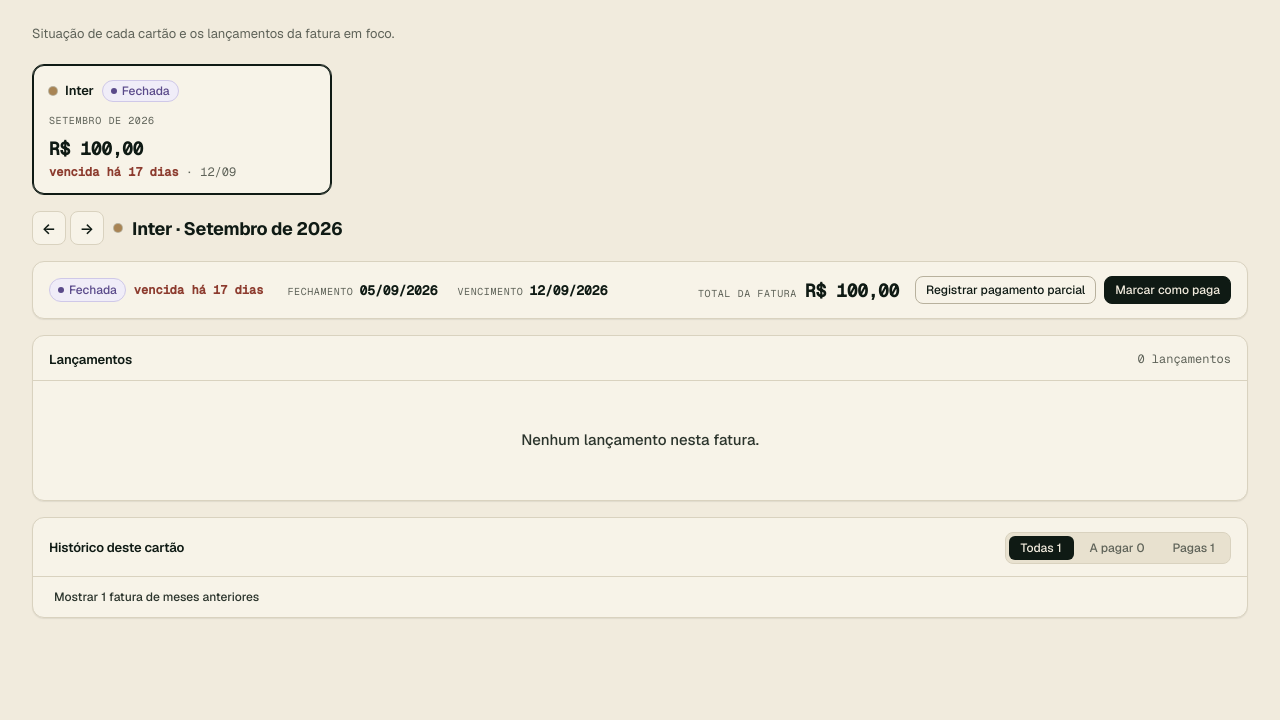
FaturasPage — navegação entre faturas › a seta leva à próxima fatura que existe, pulando o mês sem fatura
expect the heading "Inter · Setembro de 2026" is shown: met, box x1=132 y1=218 x2=342 y2=239
expect the button named "Fatura anterior: agosto de 2026" is shown: met, box x1=32 y1=211 x2=66 y2=245
Click the button named "Próxima fatura: novembro de 2026". click: (87, 228)
box: x1=70 y1=211 x2=104 y2=245
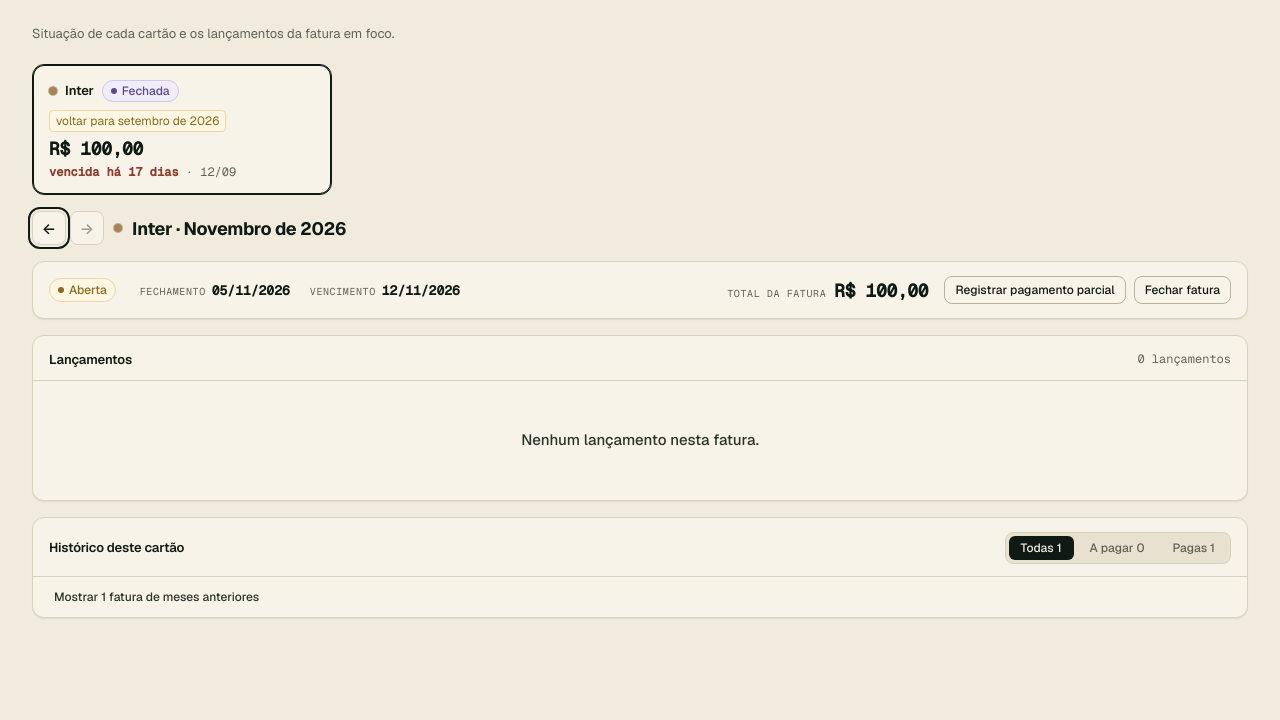
expect the heading "Inter · Novembro de 2026" is shown: met, box x1=132 y1=218 x2=346 y2=239
expect the button named "Sem próxima fatura" is disabled: met, box x1=70 y1=211 x2=104 y2=245
